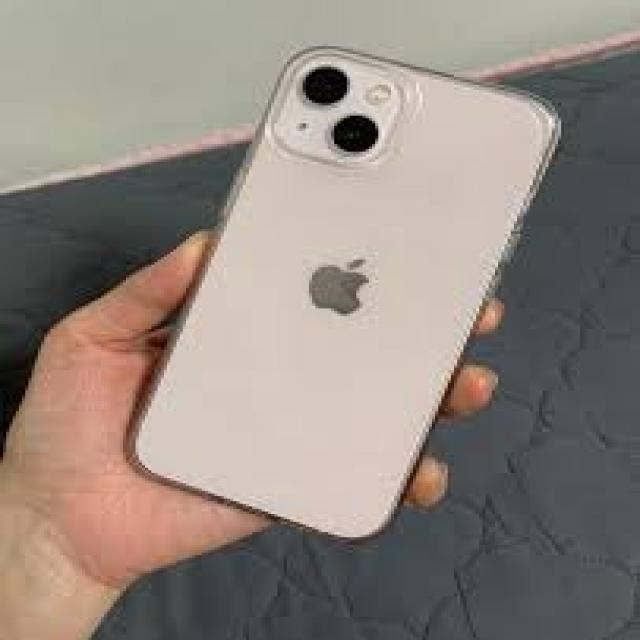Phone: (118, 42, 562, 547)
